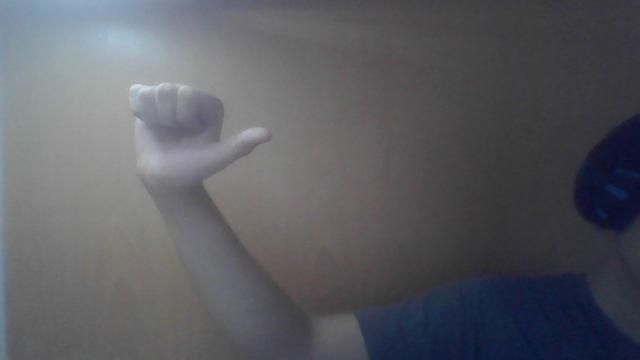left: (120, 79, 276, 197)
